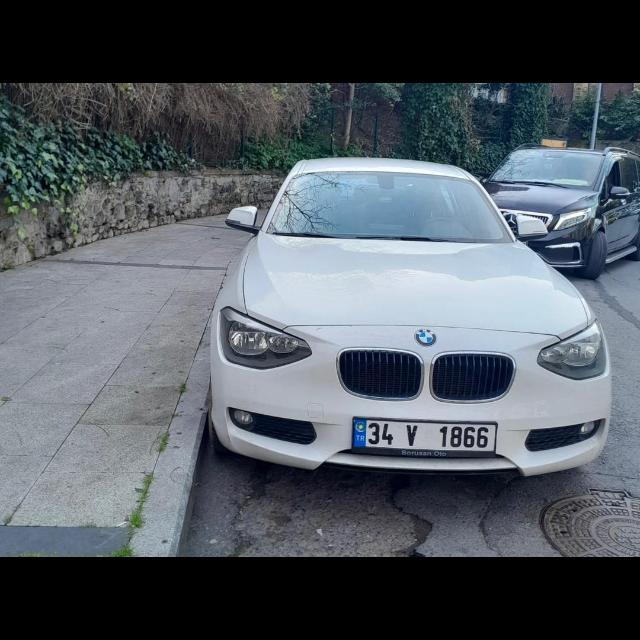Plaka: (352, 421, 496, 453)
